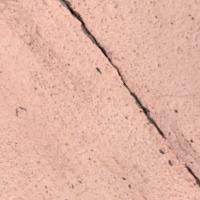crack: (65, 0, 199, 186)
